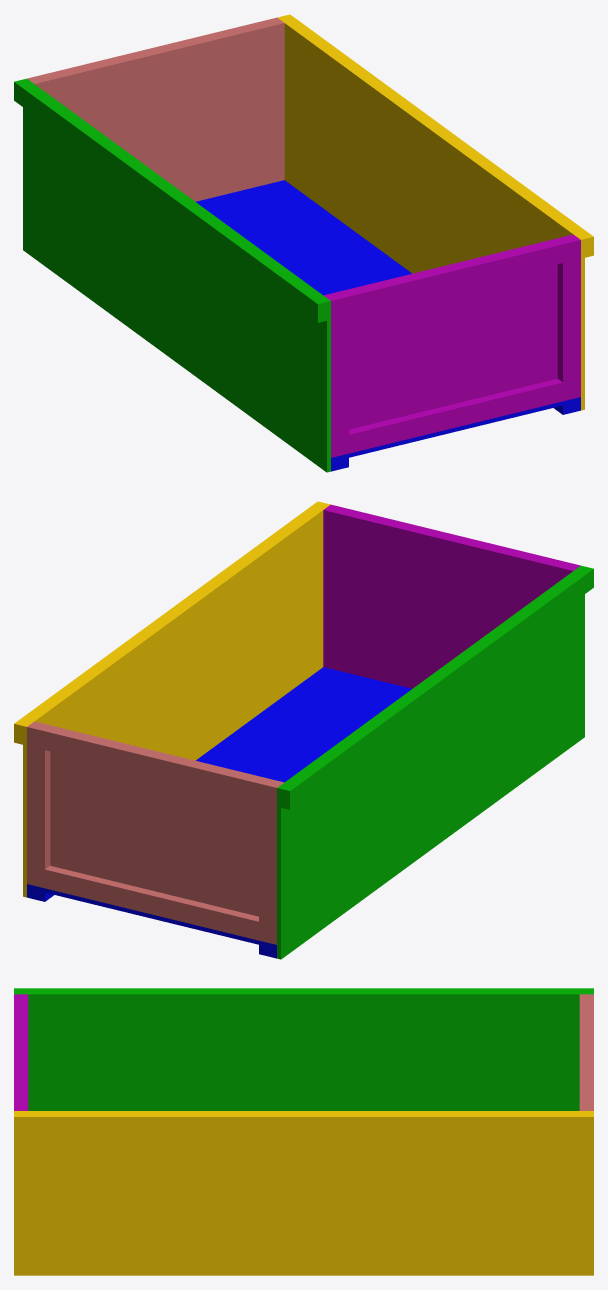
The model's file is result.glb.
The picture shows the model from 3 angles, top to bottom: view 1: azimuth 30°, elevation 25°; view 2: azimuth 150°, elevation 25°; view 3: azimuth 270°, elevation 25°; orthographic projection. The views are drawn at different scales.
Visible parts, largest first — view 1: f6e83693-bcec-4d1e-b987-220ce1a7aeab__Box_6, 121448b9-ec1e-42bd-ac9c-3b9eb4288c0f__undefined, 81c026e1-ceda-483a-8fbd-1516935166e2__undefined, baa0cd13-d2b8-4b15-bd43-e977bb2cef1b__Box_3, d806d716-c517-43dd-944d-49cc847f26ee__Box, c4b1e185-d54d-4e36-a052-b015fd02d1b2__Box_7, 04cbb151-7a4c-4c9c-adce-f78fb2f25ced__undefined, 1d744a72-2f56-4f9d-af42-f9a54f33057e__Box_5, b7dc3730-c59e-45f3-b094-d8f6e092f5b9__undefined, fc3d3a75-8e09-4e0f-ab12-5ac9e89c817d__undefined, 0e1cc7e1-b47e-4387-bc0d-be9dc8fb0a23__Box_4, 6ef5231c-ad57-4225-bac0-c8186221db6e__undefined; view 2: f6e83693-bcec-4d1e-b987-220ce1a7aeab__Box_6, 121448b9-ec1e-42bd-ac9c-3b9eb4288c0f__undefined, baa0cd13-d2b8-4b15-bd43-e977bb2cef1b__Box_3, 81c026e1-ceda-483a-8fbd-1516935166e2__undefined, d806d716-c517-43dd-944d-49cc847f26ee__Box, c4b1e185-d54d-4e36-a052-b015fd02d1b2__Box_7, 6ef5231c-ad57-4225-bac0-c8186221db6e__undefined, e88fbe2d-bc59-40a8-8539-0d1ad767d926__undefined, 15423be4-ab3c-4784-a1db-93d497d92ba5__undefined, fc3d3a75-8e09-4e0f-ab12-5ac9e89c817d__undefined, 6760296d-bd9e-4aa0-8392-814b2b348e1e__undefined, 04cbb151-7a4c-4c9c-adce-f78fb2f25ced__undefined; view 3: 121448b9-ec1e-42bd-ac9c-3b9eb4288c0f__undefined, f6e83693-bcec-4d1e-b987-220ce1a7aeab__Box_6, fc3d3a75-8e09-4e0f-ab12-5ac9e89c817d__undefined, c4b1e185-d54d-4e36-a052-b015fd02d1b2__Box_7, 04cbb151-7a4c-4c9c-adce-f78fb2f25ced__undefined, 6ef5231c-ad57-4225-bac0-c8186221db6e__undefined, baa0cd13-d2b8-4b15-bd43-e977bb2cef1b__Box_3, 81c026e1-ceda-483a-8fbd-1516935166e2__undefined.
Part boxes in pixels (<box>): f6e83693-bcec-4d1e-b987-220ce1a7aeab__Box_6: <box>23,78,330,472</box>; 121448b9-ec1e-42bd-ac9c-3b9eb4288c0f__undefined: <box>277,16,584,410</box>; 81c026e1-ceda-483a-8fbd-1516935166e2__undefined: <box>32,21,284,201</box>; baa0cd13-d2b8-4b15-bd43-e977bb2cef1b__Box_3: <box>323,234,575,429</box>; d806d716-c517-43dd-944d-49cc847f26ee__Box: <box>196,180,580,461</box>; c4b1e185-d54d-4e36-a052-b015fd02d1b2__Box_7: <box>14,79,326,322</box>; 04cbb151-7a4c-4c9c-adce-f78fb2f25ced__undefined: <box>344,240,562,315</box>; 1d744a72-2f56-4f9d-af42-f9a54f33057e__Box_5: <box>349,378,562,453</box>; b7dc3730-c59e-45f3-b094-d8f6e092f5b9__undefined: <box>557,236,580,401</box>; fc3d3a75-8e09-4e0f-ab12-5ac9e89c817d__undefined: <box>281,14,593,257</box>; 0e1cc7e1-b47e-4387-bc0d-be9dc8fb0a23__Box_4: <box>326,293,348,457</box>; 6ef5231c-ad57-4225-bac0-c8186221db6e__undefined: <box>45,22,263,77</box>; f6e83693-bcec-4d1e-b987-220ce1a7aeab__Box_6: <box>277,565,584,959</box>; 121448b9-ec1e-42bd-ac9c-3b9eb4288c0f__undefined: <box>23,503,330,897</box>; baa0cd13-d2b8-4b15-bd43-e977bb2cef1b__Box_3: <box>323,508,575,688</box>; 81c026e1-ceda-483a-8fbd-1516935166e2__undefined: <box>32,721,284,916</box>; d806d716-c517-43dd-944d-49cc847f26ee__Box: <box>27,667,411,948</box>; c4b1e185-d54d-4e36-a052-b015fd02d1b2__Box_7: <box>281,566,593,809</box>; 6ef5231c-ad57-4225-bac0-c8186221db6e__undefined: <box>45,727,263,802</box>; e88fbe2d-bc59-40a8-8539-0d1ad767d926__undefined: <box>45,865,258,940</box>; 15423be4-ab3c-4784-a1db-93d497d92ba5__undefined: <box>27,723,50,888</box>; fc3d3a75-8e09-4e0f-ab12-5ac9e89c817d__undefined: <box>14,501,326,744</box>; 6760296d-bd9e-4aa0-8392-814b2b348e1e__undefined: <box>259,780,281,944</box>; 04cbb151-7a4c-4c9c-adce-f78fb2f25ced__undefined: <box>344,509,562,564</box>; 121448b9-ec1e-42bd-ac9c-3b9eb4288c0f__undefined: <box>14,1111,593,1275</box>; f6e83693-bcec-4d1e-b987-220ce1a7aeab__Box_6: <box>14,992,593,1110</box>; fc3d3a75-8e09-4e0f-ab12-5ac9e89c817d__undefined: <box>14,1112,593,1134</box>; c4b1e185-d54d-4e36-a052-b015fd02d1b2__Box_7: <box>14,988,593,992</box>; 04cbb151-7a4c-4c9c-adce-f78fb2f25ced__undefined: <box>14,1002,23,1102</box>; 6ef5231c-ad57-4225-bac0-c8186221db6e__undefined: <box>584,1002,593,1102</box>; baa0cd13-d2b8-4b15-bd43-e977bb2cef1b__Box_3: <box>24,994,28,1110</box>; 81c026e1-ceda-483a-8fbd-1516935166e2__undefined: <box>579,994,583,1110</box>.
Size of the model in its own units: 552 by 326 by 1052.
